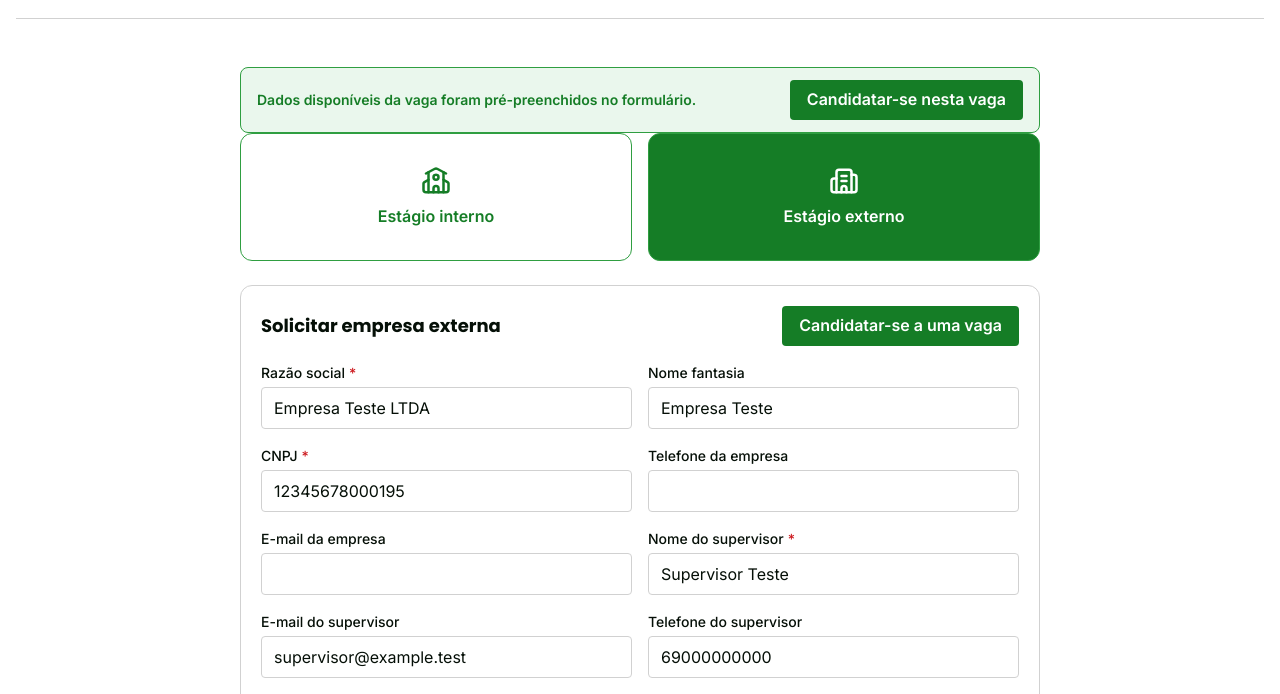
SolicitarEstagio › candidata o aluno na vaga pré-selecionada
Click the button "Candidatar-se nesta vaga" at (906, 100), box [790,80,1023,120]
(page scrolled)
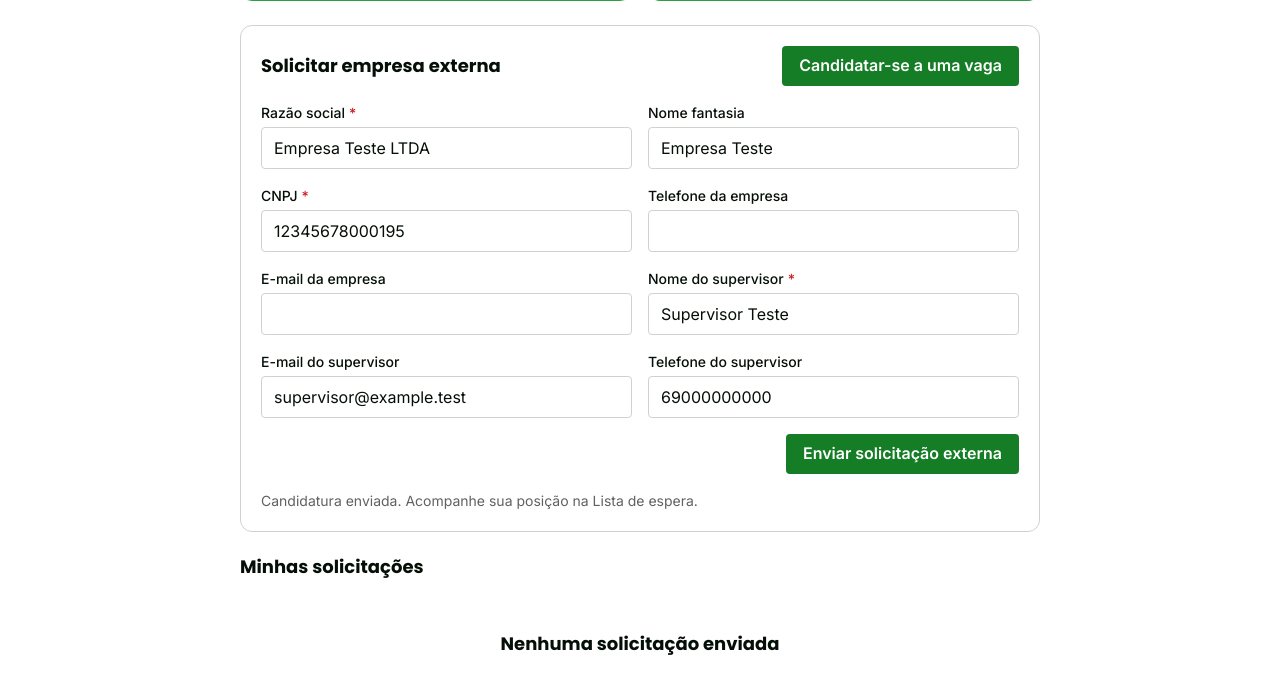
expect the text "Candidatura enviada" is shown: met, box [261,492,698,509]
